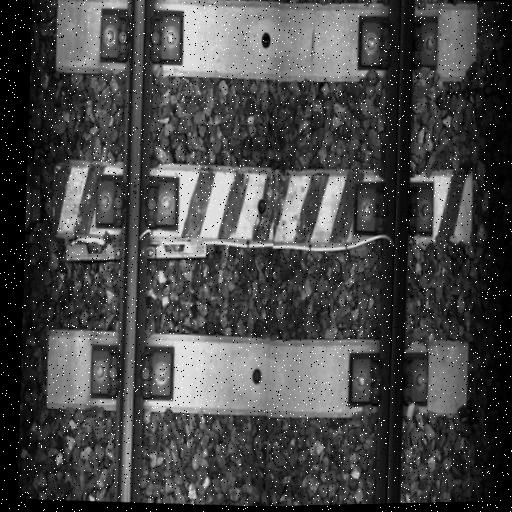sleeper: (48, 147, 476, 277), (44, 317, 471, 436), (54, 0, 480, 97)
